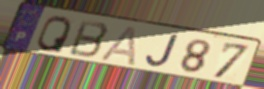7: (213, 40, 253, 81)
8: (178, 38, 214, 74)
A: (98, 25, 139, 68)
B: (66, 18, 111, 60)
J: (144, 34, 180, 69)
Q: (35, 15, 74, 55)
